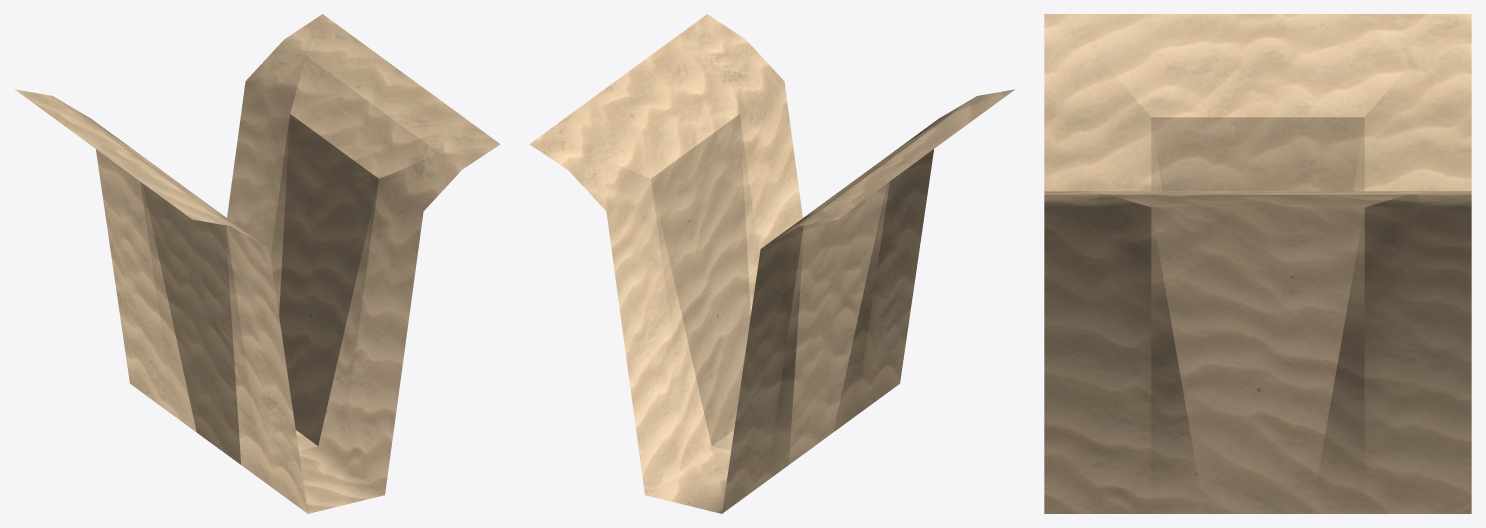
File: Sand2b.obj
The picture shows the model from 3 angles, left to right: view 1: azimuth 30°, elevation 25°; view 2: azimuth 150°, elevation 25°; view 3: azimuth 270°, elevation 25°; orthographic projection. The views are drawn at different scales.
Parts seen in each view (by area): view 1: Grid_Grid.005; view 2: Grid_Grid.005; view 3: Grid_Grid.005.
Part boxes in pixels (<box>): Grid_Grid.005: <box>15,14,500,513</box>; Grid_Grid.005: <box>529,14,1014,513</box>; Grid_Grid.005: <box>1044,14,1471,513</box>.
Bounding box in the file's own units: 1 × 1 × 1.
1 material, 1 textured.
